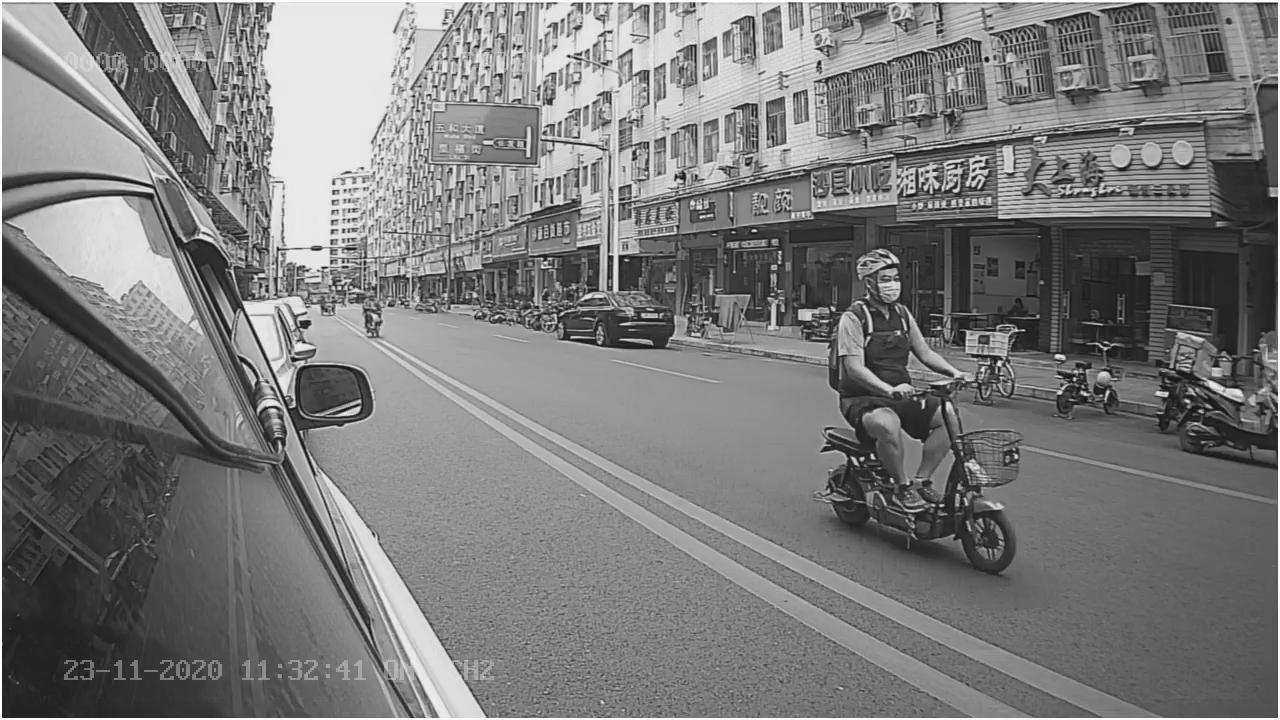person: (834, 237, 952, 398)
